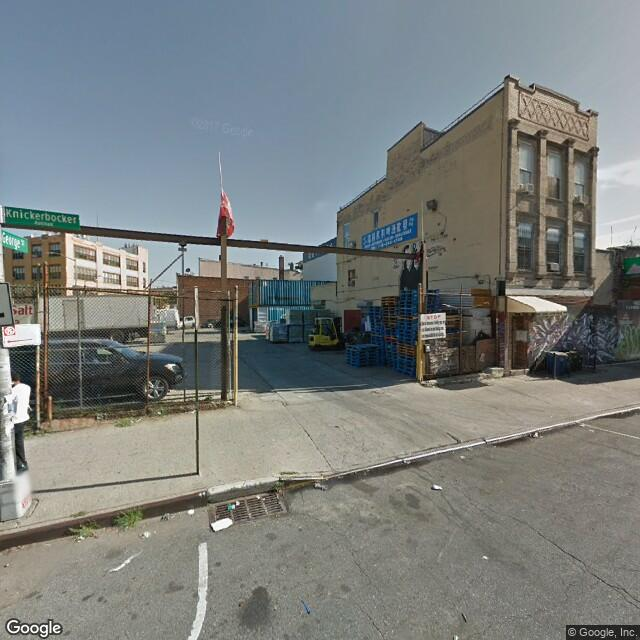litter: (206, 510, 237, 538), (421, 475, 454, 498), (457, 604, 478, 631), (154, 505, 176, 529), (525, 425, 548, 443), (248, 487, 267, 504), (140, 531, 151, 541)
